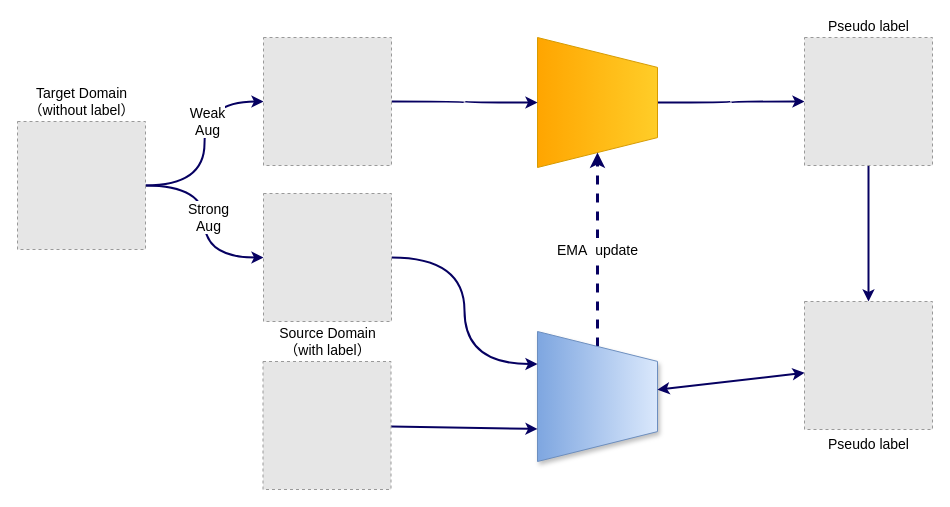
The diagram is 950 pixels wide and 507 high, and some of its shapes have lost their labels. Grey dashed boxes stand in for pictures. Each missing label, with the centre of its shape:
"Student" goes at (598,397).
"Teacher" goes at (597,102).
